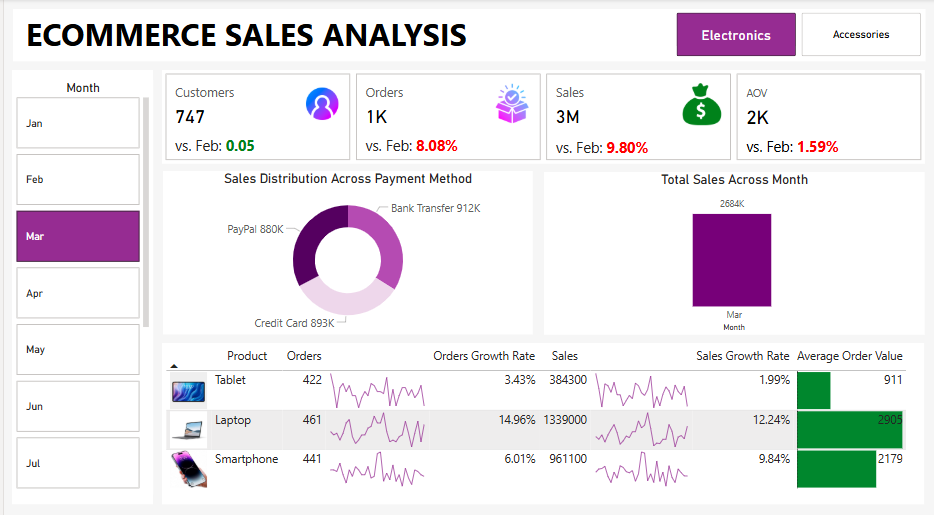

The dashboard page shown, as its layout file describes it:
{"tool":"powerbi","page":{"name":"Page 1","canvas":[1280,720],"ordinal":0},"visuals":[{"type":"shape","box":[11.8,13.4,1256.5,72.2],"z":0},{"type":"shape","box":[11.3,97.8,194.2,598.1],"z":1000},{"type":"textbox","box":[24.5,14.2,673.5,83.9],"z":2000},{"type":"cardVisual","fields":{"Data":["Measures Table.Customers Count","Measures Table.Total Orders","Measures Table.Sales","Measures Table.AverageOrderValue"]},"box":[218.1,98.1,1050.3,129],"z":3000},{"type":"advancedSlicerVisual","fields":{"Values":["dimProducts.Category"]},"box":[921.3,14.2,347.2,70.9],"z":4000},{"type":"donutChart","title":"Sales Distribution Across Payment Method","fields":{"Y":["Sum(factEcommerce.Total Sale Amount)"],"Category":["factEcommerce.Payment Method"]},"box":[218.8,237.4,509.1,224.5],"z":5000},{"type":"clusteredColumnChart","title":"Total Sales Across Month","fields":{"Y":["Sum(factEcommerce.Total Sale Amount)"],"Category":["Calendar.Month"]},"box":[743.2,238.1,524.4,224.3],"z":6000},{"type":"advancedSlicerVisual","fields":{"Values":["Calendar.Month"]},"box":[12.8,112,192.8,569.8],"z":7000},{"type":"tableEx","fields":{"Values":["dimProducts.Product Images.Img","dimProducts.Product Name","Measures Table.Total Orders","SparklineData(Measures Table.Orders Growth Rate_[Calendar.Day])","Measures Table.Orders Growth Rate","Measures Table.Sales","SparklineData(Measures Table.Sales Growth Rate_[Calendar.Day])","Measures Table.Sales Growth Rate","Measures Table.AverageOrderValue"]},"box":[218.1,473.5,1049,221.9],"z":8000}]}

Visuals, with their boxes in screenshot pixels (x1, y1, x2, y2), scaled from the page's 1280x720 canvas onto the 934x515 screenshot:
shape: box=[9, 10, 925, 61]
shape: box=[8, 70, 150, 498]
textbox: box=[18, 10, 509, 70]
cardVisual - Measures Table.Customers Count x Measures Table.Total Orders: box=[159, 70, 926, 162]
advancedSlicerVisual - dimProducts.Category: box=[672, 10, 926, 61]
"Sales Distribution Across Payment Method" donutChart: box=[160, 170, 531, 330]
"Total Sales Across Month" clusteredColumnChart: box=[542, 170, 925, 331]
advancedSlicerVisual - Calendar.Month: box=[9, 80, 150, 488]
tableEx - dimProducts.Product Images.Img x dimProducts.Product Name: box=[159, 339, 925, 497]
